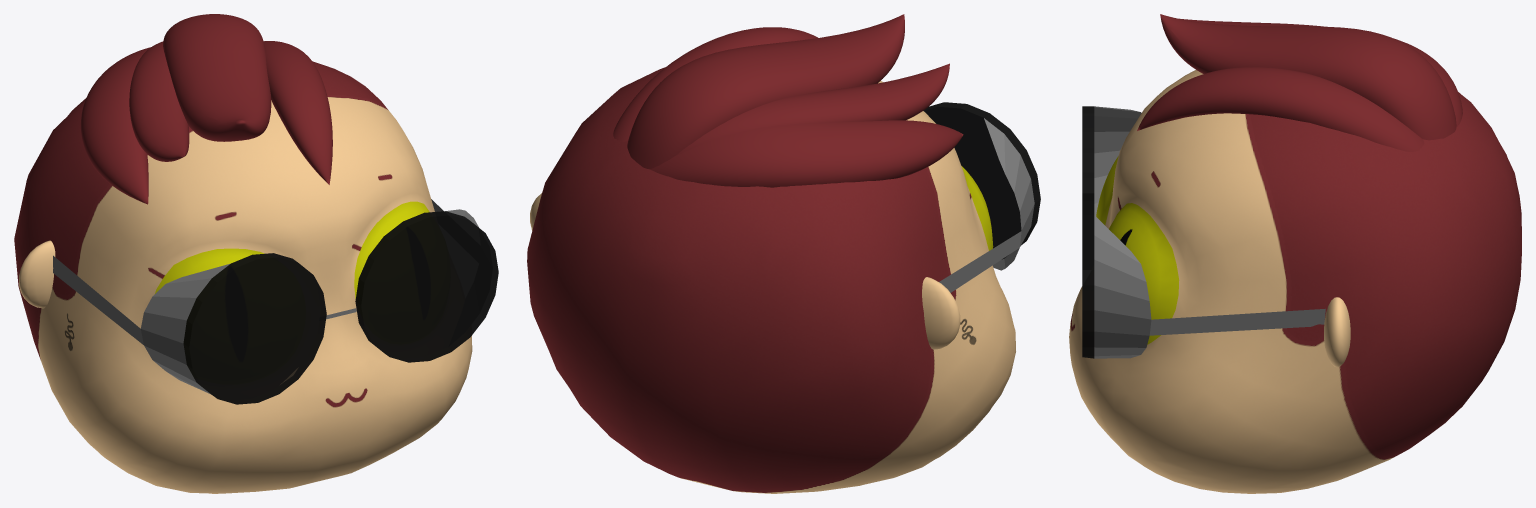
File: crowley.glb
3 views of the same model, side by side, from view 1: azimuth 30°, elevation 25°; view 2: azimuth 150°, elevation 25°; view 3: azimuth 270°, elevation 25° (orthographic). The views are drawn at different scales.
Visible parts, largest first — view 1: body, Circle, NurbsPath, NurbsPath.001, NurbsPath.002, NurbsPath.003, ear; view 2: body, NurbsPath, NurbsPath.001, Circle, NurbsPath.003, NurbsPath.002, ear; view 3: body, NurbsPath, Circle, NurbsPath.002, ear, NurbsPath.001.
Boxes of the visible parts, box(x1,y1,x2,y2) form: body: box(14, 61, 472, 493); Circle: box(53, 199, 498, 404); NurbsPath: box(163, 14, 271, 141); NurbsPath.001: box(80, 47, 150, 204); NurbsPath.002: box(263, 41, 332, 184); NurbsPath.003: box(129, 41, 189, 161); ear: box(19, 240, 55, 308); body: box(527, 67, 1015, 493); NurbsPath: box(627, 14, 904, 169); NurbsPath.001: box(650, 120, 963, 187); Circle: box(923, 102, 1040, 292); NurbsPath.003: box(676, 63, 949, 155); NurbsPath.002: box(613, 27, 817, 141); ear: box(530, 193, 960, 349); body: box(1069, 70, 1521, 493); NurbsPath: box(1160, 14, 1456, 140); Circle: box(1082, 106, 1325, 358); NurbsPath.002: box(1137, 67, 1424, 151); ear: box(1324, 297, 1350, 367); NurbsPath.001: box(1394, 38, 1462, 127).
Size of the model in its own units: 1.02 by 0.9781 by 0.9678.
Materials: 5 (1 with a texture image).
